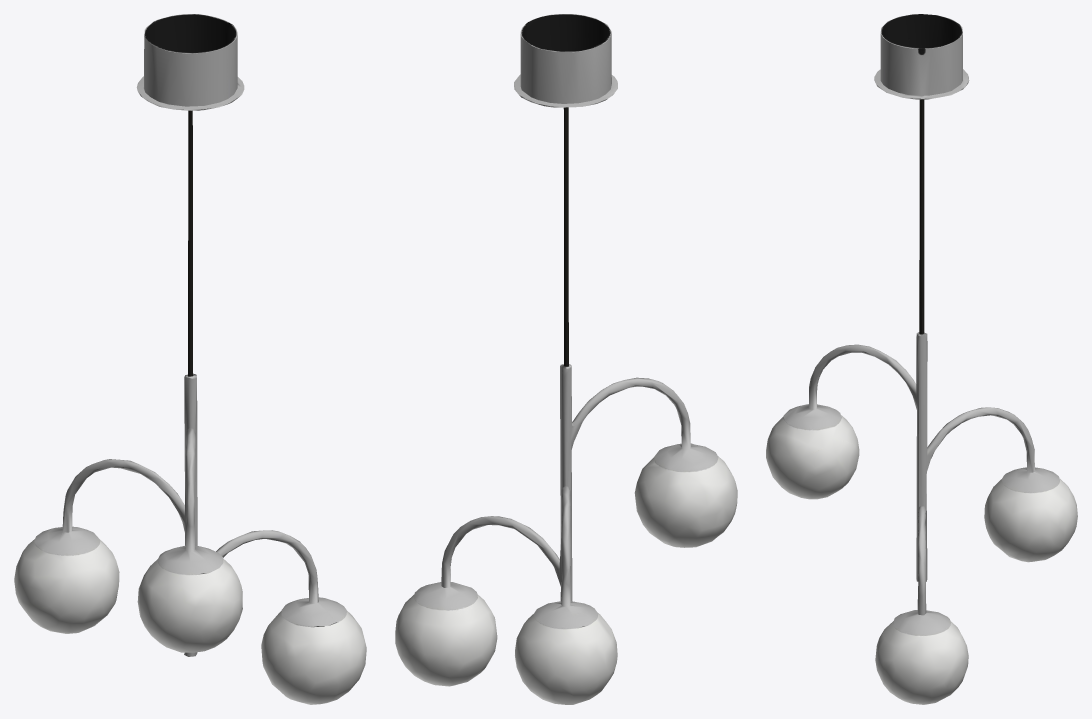
Rendered from simrishamn_lampa_wiszaca_3_ramienna_80407835.glb.
The picture shows the model from 3 angles, left to right: view 1: azimuth 30°, elevation 25°; view 2: azimuth 150°, elevation 25°; view 3: azimuth 270°, elevation 25°; orthographic projection. The views are drawn at different scales.
Parts seen in each view (by area): view 1: simrishamn_lampa_wiszaca_3_ramienna_80407835; view 2: simrishamn_lampa_wiszaca_3_ramienna_80407835; view 3: simrishamn_lampa_wiszaca_3_ramienna_80407835.
Boxes of the visible parts, box(x1,y1,x2,y2) form: simrishamn_lampa_wiszaca_3_ramienna_80407835: box(14, 14, 366, 704); simrishamn_lampa_wiszaca_3_ramienna_80407835: box(395, 14, 737, 704); simrishamn_lampa_wiszaca_3_ramienna_80407835: box(766, 14, 1077, 704).
Bounding box in the file's own units: 0.4484 × 1.08 × 0.4951.
Materials: 1 (1 with a texture image).
